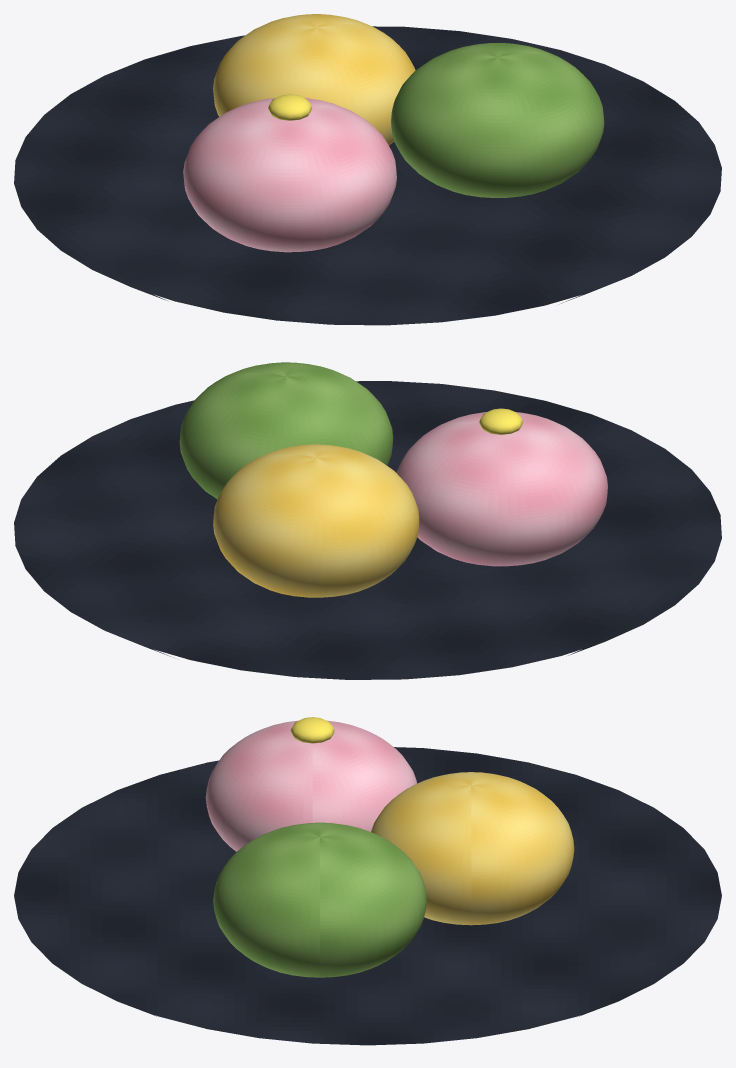
The model's file is mochi.glb.
3 views of the same model, one above another, from view 1: azimuth 30°, elevation 25°; view 2: azimuth 150°, elevation 25°; view 3: azimuth 270°, elevation 25° (orthographic).
Visible parts, largest first — view 1: DessertTray, MochiMatcha, MochiSakura, MochiYuzu, GoldLeafGarnish; view 2: DessertTray, MochiYuzu, MochiSakura, MochiMatcha, GoldLeafGarnish; view 3: DessertTray, MochiMatcha, MochiYuzu, MochiSakura, GoldLeafGarnish.
Boxes of the visible parts, x1,y1,x2,y2 form: DessertTray: [14, 26, 721, 325]; MochiMatcha: [391, 43, 604, 197]; MochiSakura: [183, 97, 396, 252]; MochiYuzu: [213, 14, 415, 145]; GoldLeafGarnish: [268, 94, 311, 120]; DessertTray: [14, 381, 721, 679]; MochiYuzu: [213, 444, 419, 597]; MochiSakura: [396, 412, 607, 566]; MochiMatcha: [179, 362, 393, 499]; GoldLeafGarnish: [479, 408, 523, 434]; DessertTray: [14, 747, 721, 1045]; MochiMatcha: [213, 822, 426, 977]; MochiYuzu: [371, 772, 574, 925]; MochiSakura: [205, 720, 417, 851]; GoldLeafGarnish: [290, 717, 334, 743].
Bounding box in the file's own units: 1.92 × 0.47 × 1.92.
5 materials, 4 textured.
